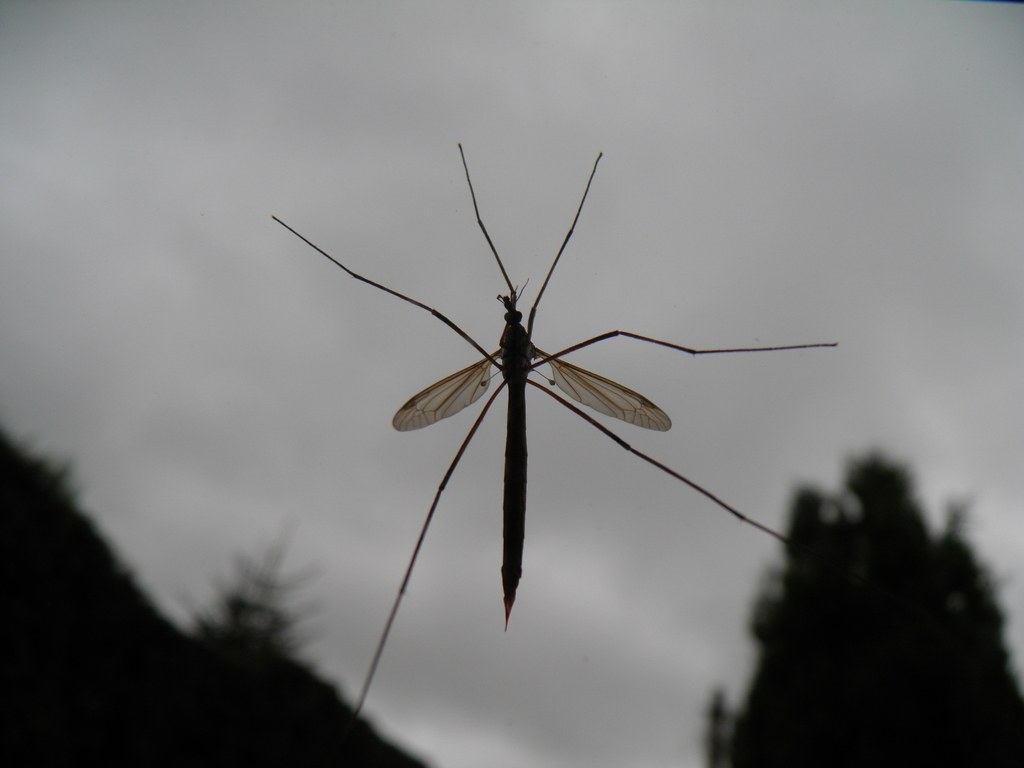insect: (269, 139, 840, 722)
